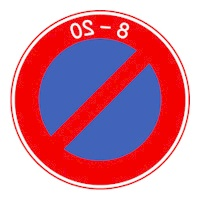Prohibition_sign: (8, 6, 194, 191)
